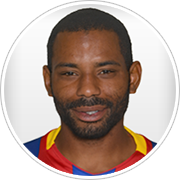face: (40, 41, 143, 122)
